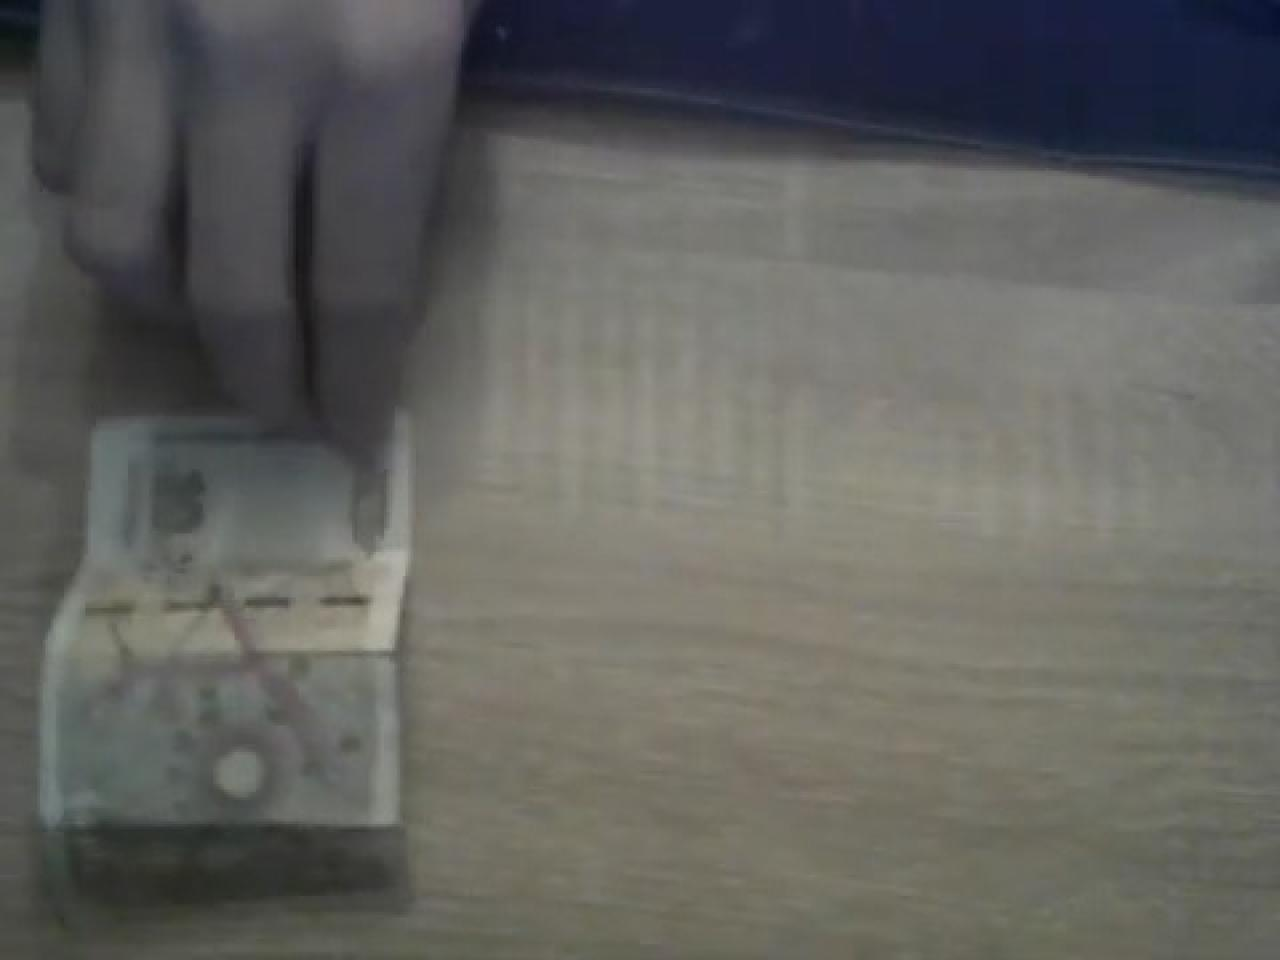10leva: (34, 405, 413, 926)
